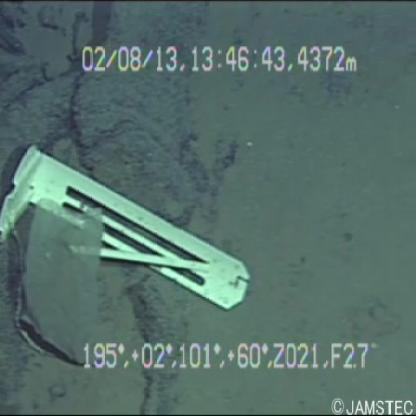Rác: (7, 124, 268, 326)
